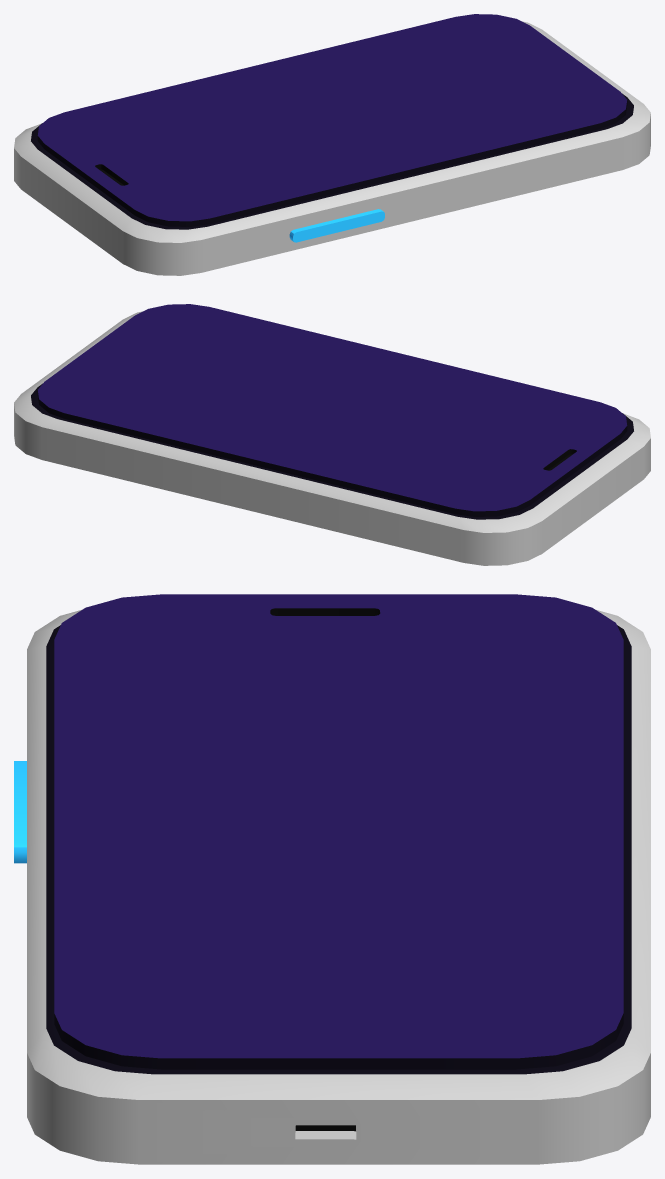
File: Phone.fbx
3 views of the same model, one above another, from view 1: azimuth 30°, elevation 25°; view 2: azimuth 150°, elevation 25°; view 3: azimuth 270°, elevation 25° (orthographic). The views are drawn at different scales.
Parts seen in each view (by area): view 1: Phone; view 2: Phone; view 3: Phone.
Boxes of the visible parts, left/top/right/bottom form: Phone: left=14, top=14, right=650, bottom=275; Phone: left=14, top=304, right=650, bottom=565; Phone: left=14, top=594, right=650, bottom=1164.
Bounding box in the file's own units: 145 × 12.78 × 78.17.
